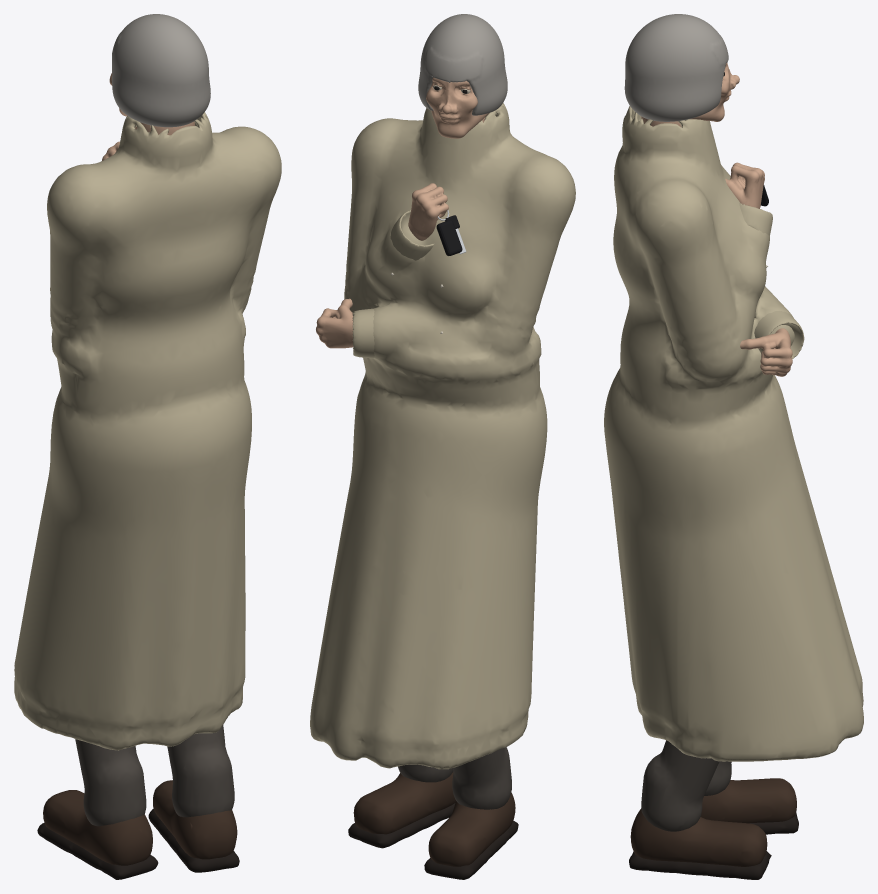
File: raincoat.glb
The picture shows the model from 3 angles, left to right: view 1: azimuth 30°, elevation 25°; view 2: azimuth 150°, elevation 25°; view 3: azimuth 270°, elevation 25°; orthographic projection. The views are drawn at different scales.
Parts seen in each view (by area): view 1: raincoat_body, raincoat_head; view 2: raincoat_body, raincoat_head, raincoat_hands, keys_fob; view 3: raincoat_body, raincoat_head, raincoat_hands.
Part boxes in pixels (x1,y1,x2,y2): raincoat_body: (14,112,281,879); raincoat_head: (109,14,210,127); raincoat_body: (310,103,575,879); raincoat_head: (418,14,507,138); raincoat_hands: (316,183,448,358); keys_fob: (436,220,462,255); raincoat_body: (604,106,863,879); raincoat_head: (624,14,739,121); raincoat_hands: (725,162,804,376).
Bounding box in the file's own units: 0.4318 × 1.56 × 0.4438.
